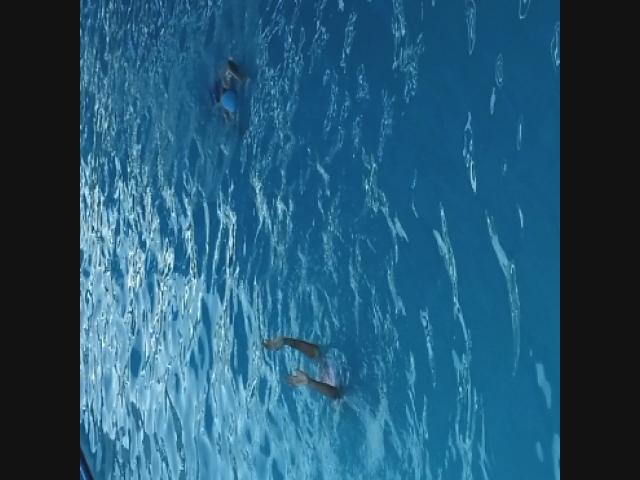drowning: (262, 336, 346, 402)
swimming: (195, 58, 252, 124)
